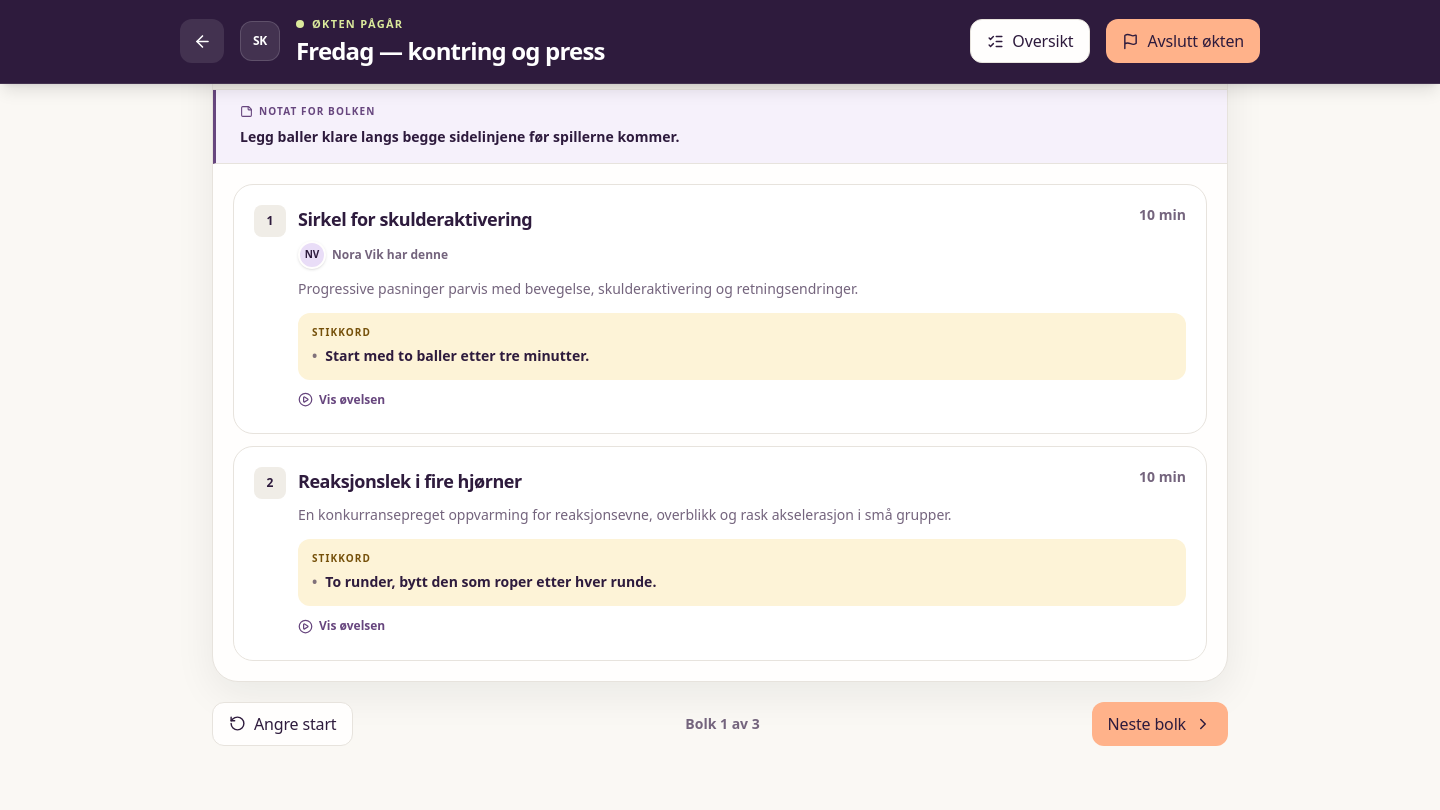
Test case: live session runner › shows one complete block and moves directly between blocks
This screenshot has width=1440, height=810.
(page scrolled)
Expected: the heading "Oppvarming" is shown, top-left (289, 30), bottom-right (464, 70)
Expected: the heading "Sirkel for skulderaktivering" is shown, top-left (298, 204), bottom-right (532, 232)
Click the button "Neste bolk": (1160, 724) top-left (1092, 702), bottom-right (1228, 746)
(page scrolled)
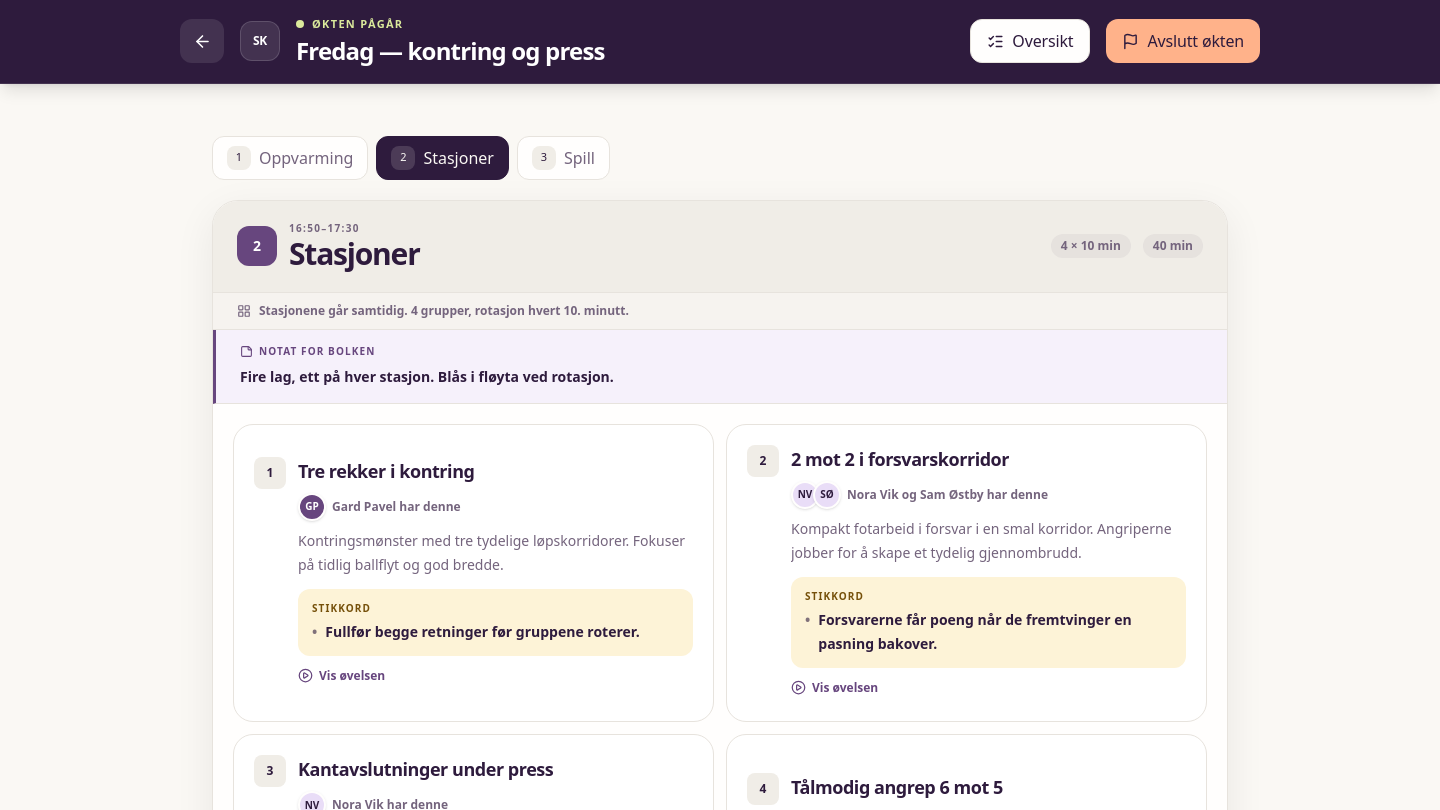
Expected: the heading "Stasjoner" is shown, top-left (289, 232), bottom-right (420, 274)
Expected: the heading "Tre rekker i kontring" is shown, top-left (298, 456), bottom-right (474, 484)
Expected: the button "Sirkel for skulderaktivering" is gone
